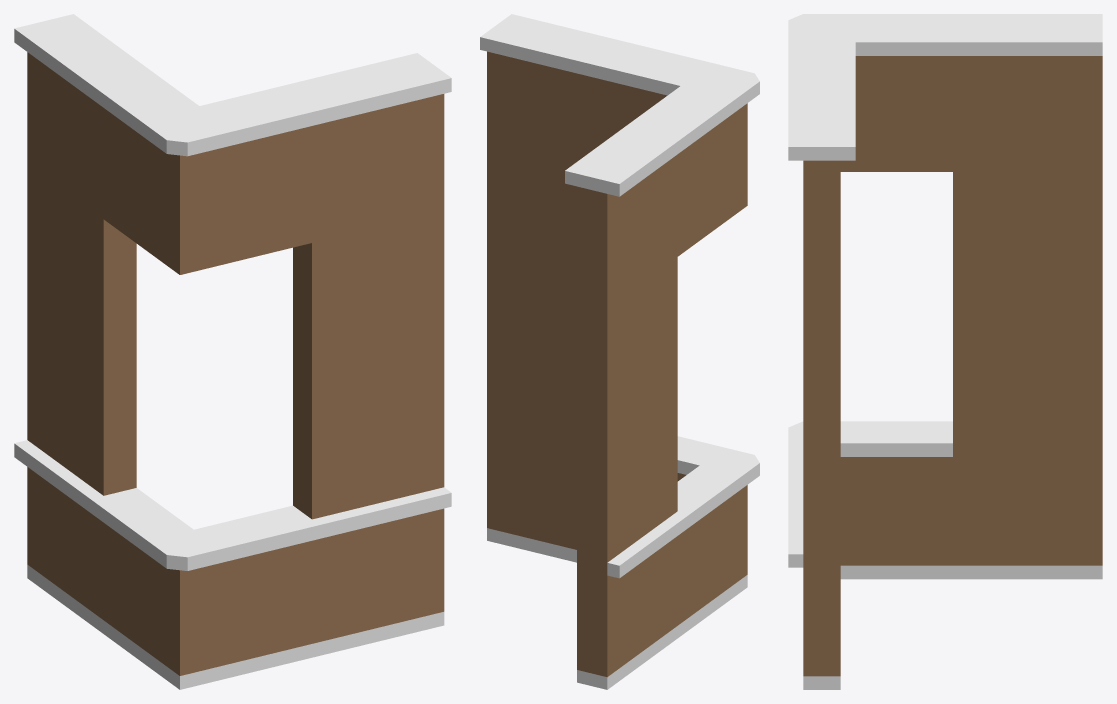
Rendered from SM_4x4m_Window_Corner.fbx.
3 views of the same model, side by side, from view 1: azimuth 30°, elevation 25°; view 2: azimuth 150°, elevation 25°; view 3: azimuth 270°, elevation 25° (orthographic). The views are drawn at different scales.
Parts seen in each view (by area): view 1: SM_4x4m_Window_Corner.001; view 2: SM_4x4m_Window_Corner.001; view 3: SM_4x4m_Window_Corner.001.
Boxes of the visible parts, x1,y1,x2,y2 form: SM_4x4m_Window_Corner.001: (14,14,451,689); SM_4x4m_Window_Corner.001: (480,14,759,689); SM_4x4m_Window_Corner.001: (788,14,1102,689).
Bounding box in the file's own units: 210 × 210 × 400.
